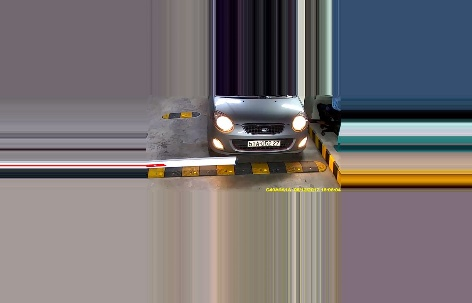plate: (245, 139, 282, 149)
